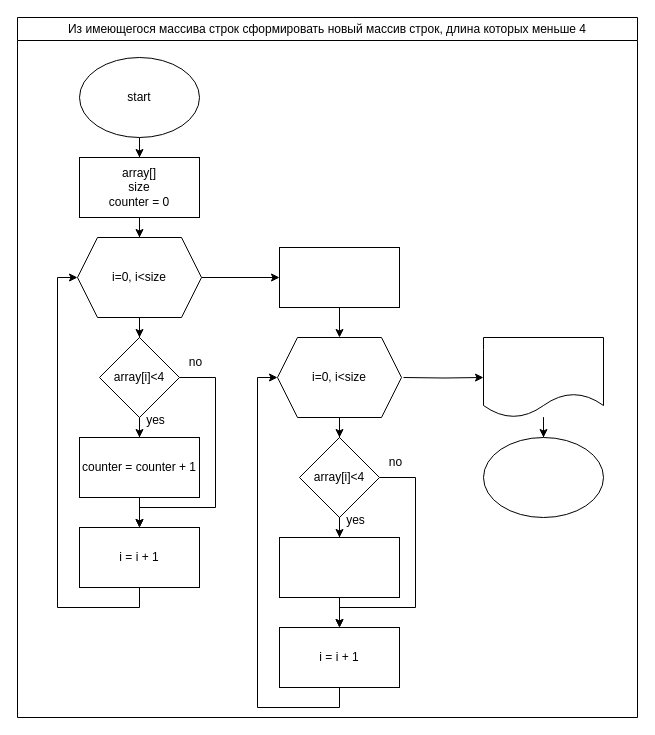
This 655x735 diagram has some shape labels left out. Here are the shapes that lost their labels. From the top down, the box of each, then its label:
(278, 246, 400, 308): array2[] j=0
(482, 336, 604, 418): array2
(482, 436, 604, 518): end
(278, 536, 400, 598): array2[j]=array[i] j = j + 1
